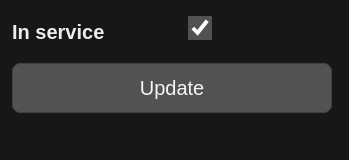
Test: FormViewer typed fields › a boolean field renders a checkbox reflecting the stored value and reports changes
The width and height of the screenshot is (349, 160).
Click the checkbox at (200, 28), box [188,16,212,40]
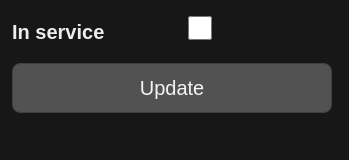
Result: the checkbox is not checked at [188,16,212,40]
